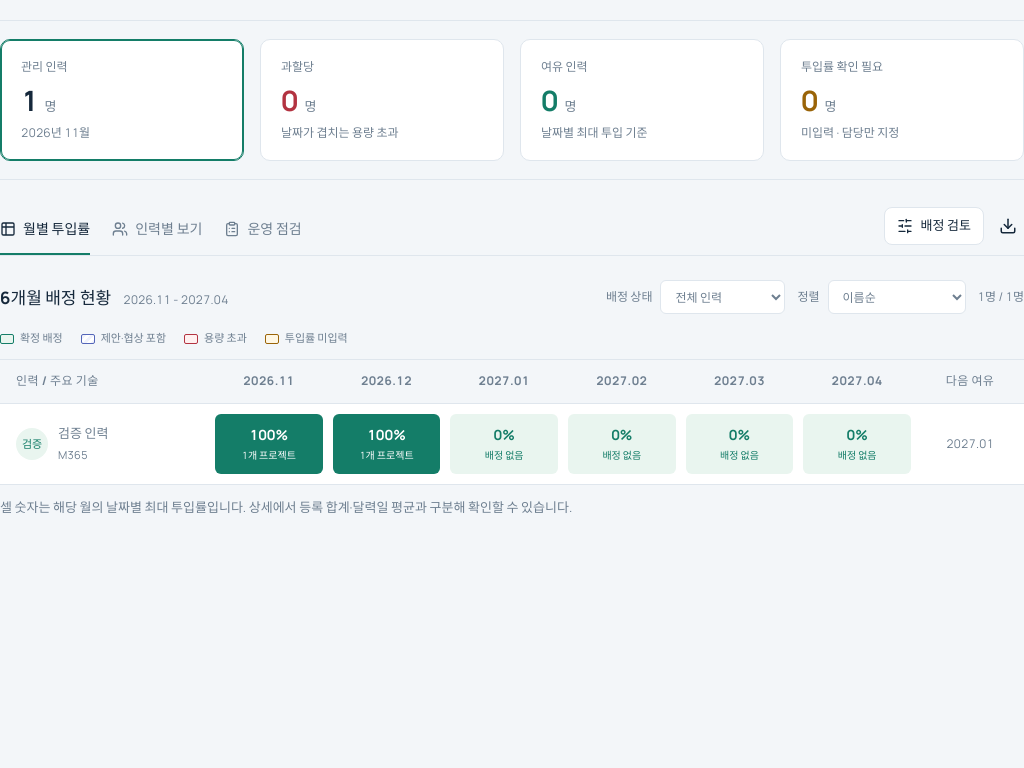
Test: staffing workflow › carries the detail month into the additional assignment simulation
This screenshot has width=1024, height=768.
Click the button with aria-label "검증 인력 2026년 12월 투입 상세" at x=387, y=444, box top-left (333, 414), bottom-right (440, 474)
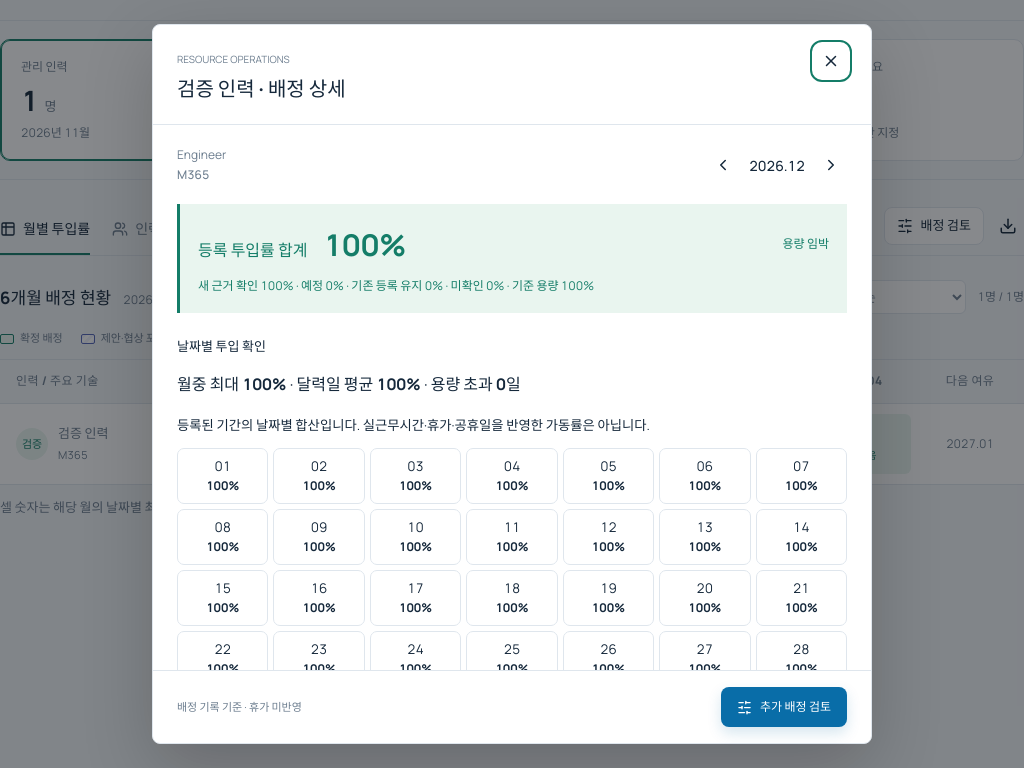
Click the button "추가 배정 검토" at x=784, y=707, box top-left (721, 687), bottom-right (847, 727)
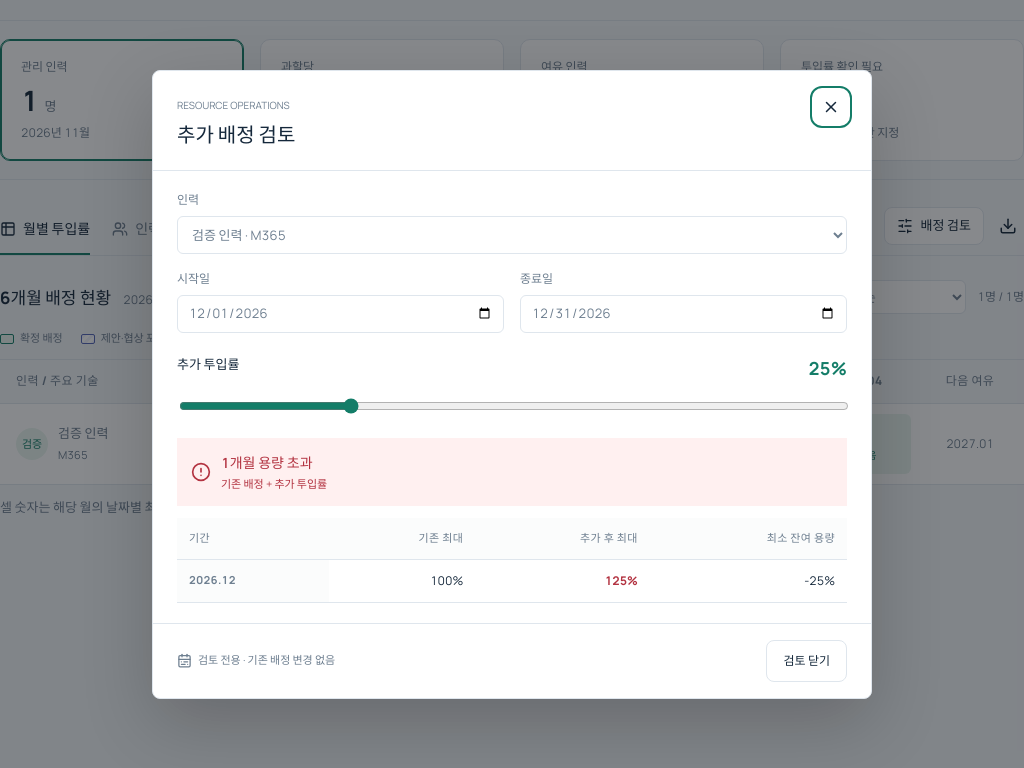
Expected: the date field labelled "시작일" holds "2026-12-01", top-left (177, 294), bottom-right (504, 332)
Expected: the date field labelled "종료일" holds "2026-12-31", top-left (520, 294), bottom-right (847, 332)
